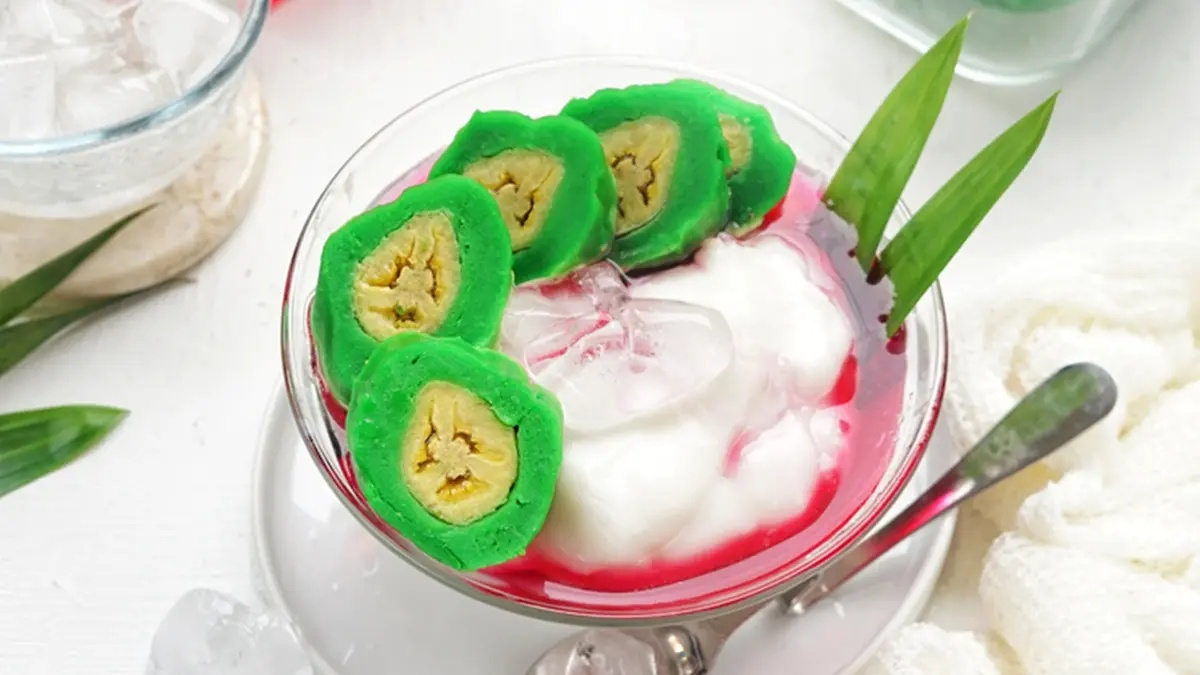pisang_ijo: (358, 328, 555, 573)
